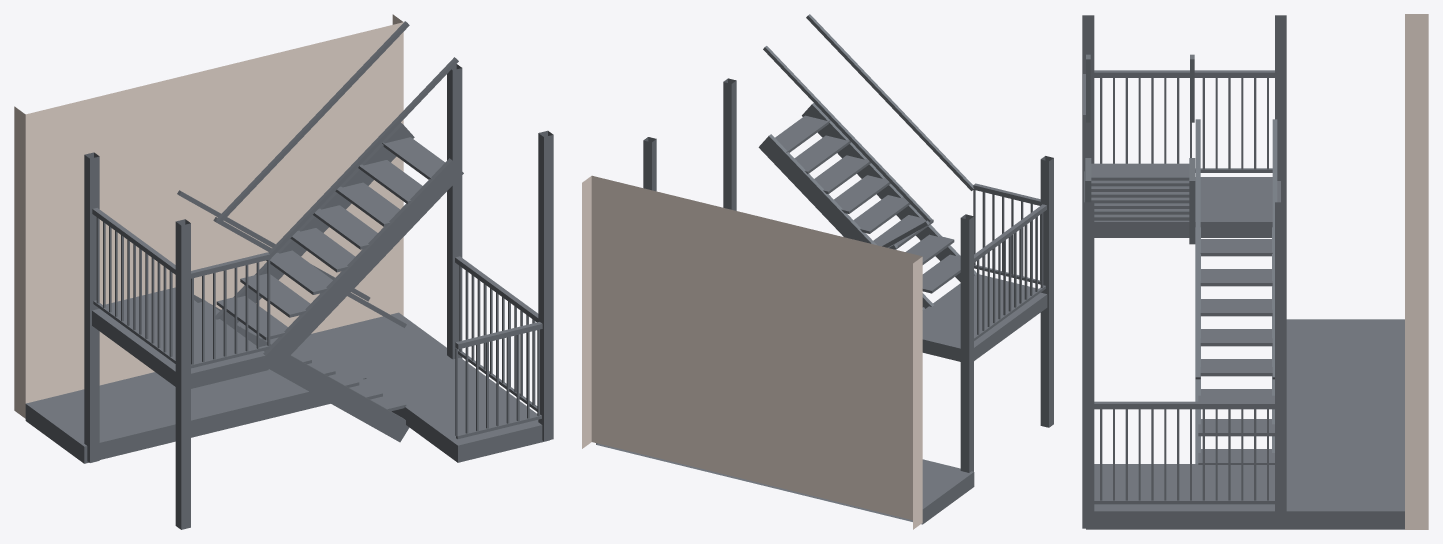
The model's file is mid-stair3_close.fbx.
3 views of the same model, side by side, from view 1: azimuth 30°, elevation 25°; view 2: azimuth 150°, elevation 25°; view 3: azimuth 270°, elevation 25° (orthographic). The views are drawn at different scales.
Parts seen in each view (by area): view 1: a2001/200/mid-stair_close; view 2: a2001/200/mid-stair_close; view 3: a2001/200/mid-stair_close.
Boxes of the visible parts, x1,y1,x2,y2 form: a2001/200/mid-stair_close: (14,14,553,529); a2001/200/mid-stair_close: (582,14,1053,529); a2001/200/mid-stair_close: (1082,14,1428,529).
Size of the model in its own units: 3.9 by 4.15 by 2.93.
